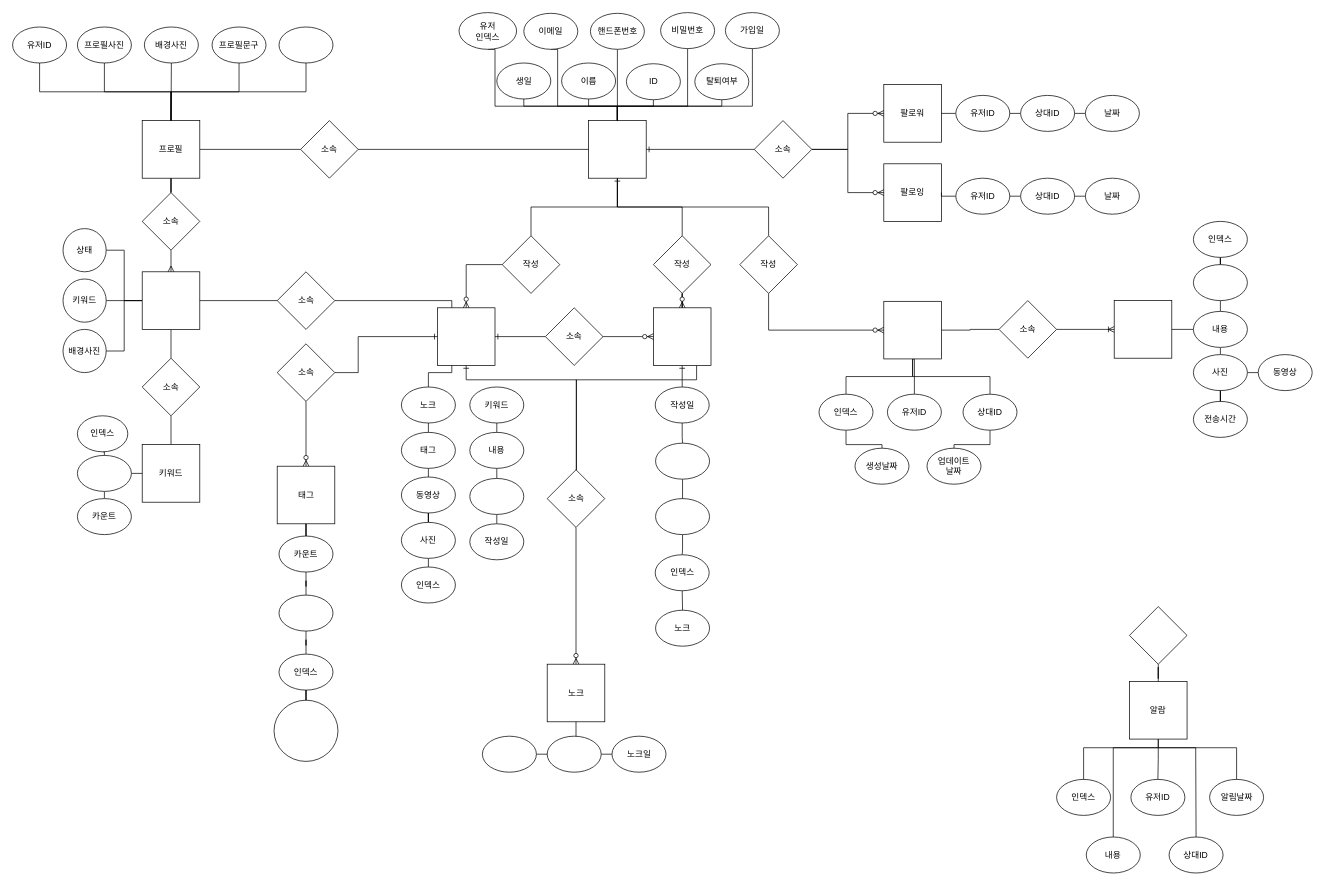
Some shapes in this 1325 by 886 pixel diagram are drawn without their labels. Each missing label, with the box of its shape:
게시물: (437, 307, 495, 365)
구분: (482, 735, 536, 772)
글쓴이ID: (469, 478, 524, 514)
노크한ID: (546, 735, 601, 772)
댓글: (653, 307, 711, 365)
댓글ID: (655, 442, 710, 479)
메세지: (883, 301, 941, 359)
메세지 상세: (1113, 300, 1172, 358)
본문: (655, 498, 710, 535)
알림: (1129, 606, 1187, 664)
유저: (588, 120, 646, 178)
유저 키워드: (141, 271, 200, 329)
최근에업데이트가 많이 된 날짜 어쩌고 보류: (273, 699, 338, 761)
키워드명: (77, 455, 131, 491)
태그명: (278, 594, 333, 631)
현재키워드: (278, 26, 333, 63)
화자ID: (1193, 264, 1247, 301)
